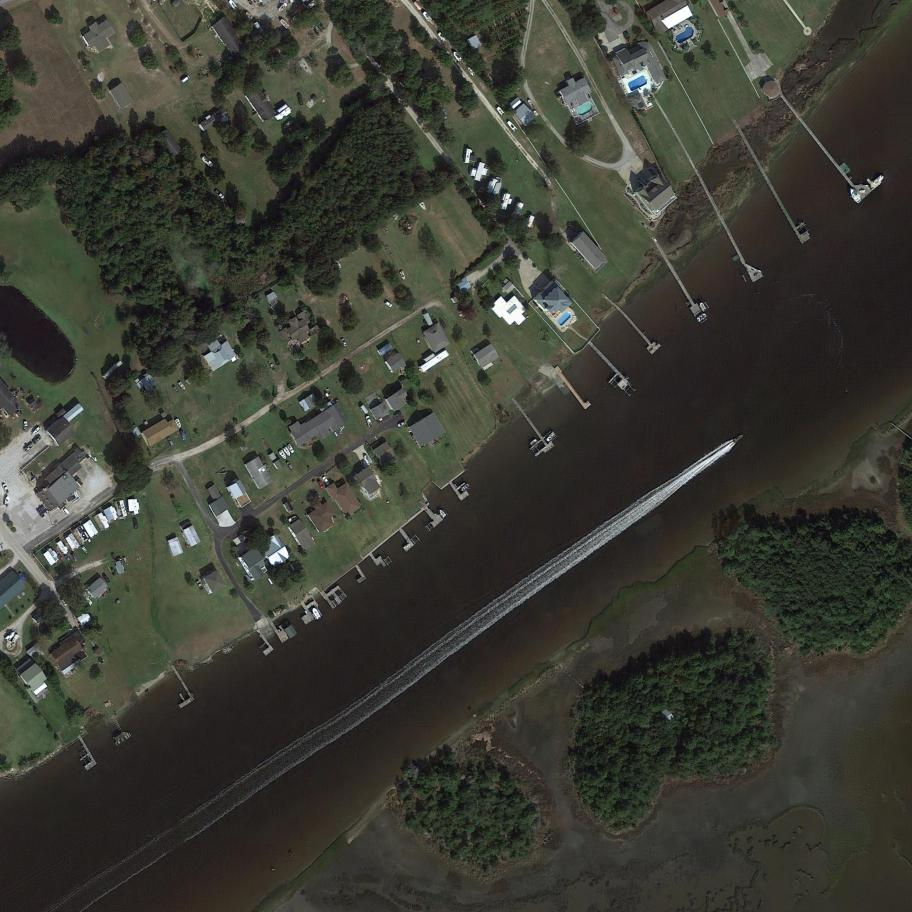ship: (846, 186, 863, 205), (200, 154, 216, 169), (293, 1, 308, 16), (871, 173, 885, 187), (505, 119, 518, 133), (278, 17, 291, 30), (732, 432, 746, 444), (451, 50, 463, 63), (282, 118, 295, 130), (254, 21, 265, 35), (4, 631, 16, 643), (31, 425, 43, 437), (436, 31, 448, 43), (695, 312, 708, 323), (311, 607, 322, 620), (278, 449, 289, 461), (286, 443, 297, 455), (495, 105, 506, 117), (465, 65, 476, 77), (23, 441, 34, 453), (422, 11, 433, 23), (277, 2, 289, 13), (11, 633, 21, 646), (177, 380, 188, 391), (437, 508, 448, 519), (460, 483, 471, 494), (545, 431, 556, 442), (282, 446, 292, 458), (698, 301, 708, 312), (174, 417, 183, 429), (418, 199, 427, 211), (80, 545, 90, 555), (526, 98, 535, 109), (4, 495, 11, 508), (288, 516, 299, 524), (529, 438, 538, 447), (399, 271, 406, 281), (532, 109, 540, 117)
small-vehicle: (180, 74, 192, 85), (0, 482, 10, 495), (479, 302, 490, 313), (60, 505, 71, 516), (321, 475, 331, 487), (365, 415, 374, 428), (214, 189, 225, 199), (31, 435, 42, 445), (439, 319, 448, 331), (267, 359, 276, 371), (36, 504, 46, 514), (195, 580, 204, 591), (39, 509, 49, 518), (179, 430, 187, 441), (341, 337, 349, 348), (272, 355, 280, 366), (297, 94, 304, 106), (384, 300, 393, 309), (397, 420, 407, 428), (167, 437, 175, 447), (286, 461, 294, 471), (394, 410, 403, 418), (133, 518, 139, 530), (318, 480, 325, 490), (71, 553, 78, 562), (57, 553, 64, 561), (64, 554, 71, 562), (23, 420, 28, 431)
